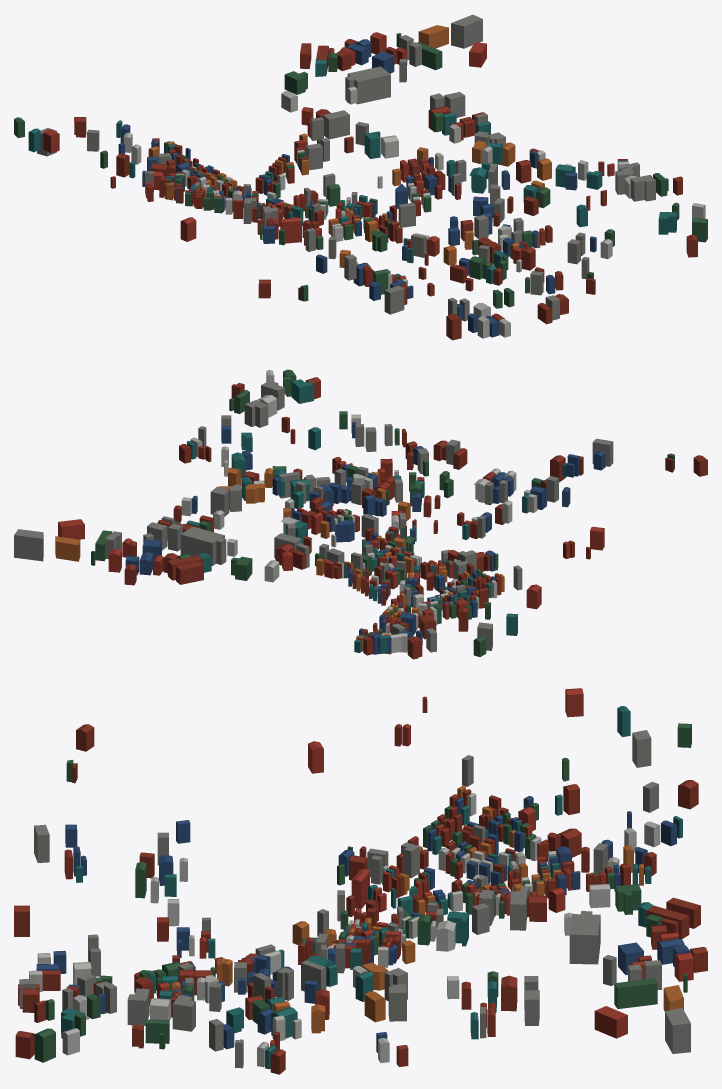
File: near-16-54718-29744.b79388ea.glb
The picture shows the model from 3 angles, top to bottom: view 1: azimuth 30°, elevation 25°; view 2: azimuth 150°, elevation 25°; view 3: azimuth 270°, elevation 25°; orthographic projection. The views are drawn at different scales.
Size of the model in its own units: 602 by 136 by 588.
